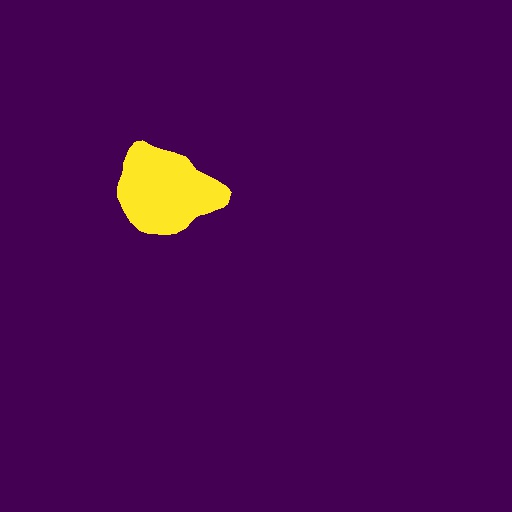Gliomia_tumour: (117, 140, 232, 235)
